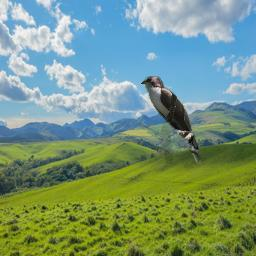Cuckoo: (140, 76, 206, 164)
